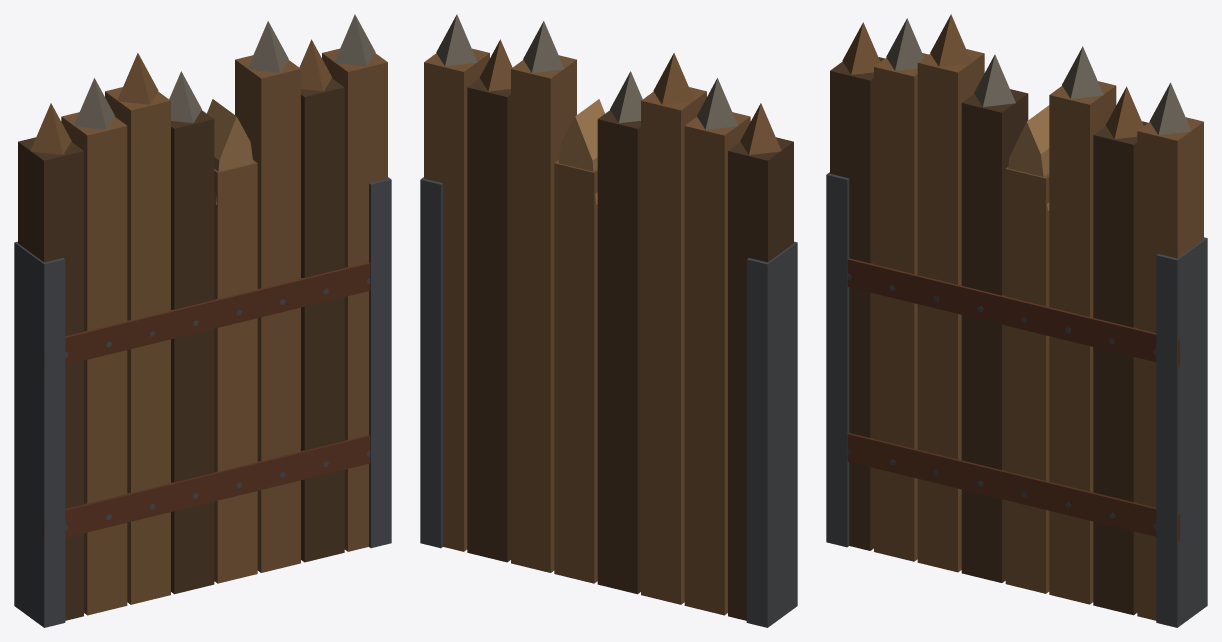
File: piece_palisade_damaged.fbx
3 renders of one model, left to right at view 1: azimuth 30°, elevation 25°; view 2: azimuth 150°, elevation 25°; view 3: azimuth 330°, elevation 25°, orthographic.
Parts seen in each view (by area): view 1: piece_palisade_damaged; view 2: piece_palisade_damaged; view 3: piece_palisade_damaged.
Part boxes in pixels (left/top/right/bottom): piece_palisade_damaged: left=14, top=14, right=391, bottom=627; piece_palisade_damaged: left=420, top=14, right=797, bottom=627; piece_palisade_damaged: left=826, top=14, right=1207, bottom=627.
Size of the model in its own units: 2 by 2.96 by 0.3.
